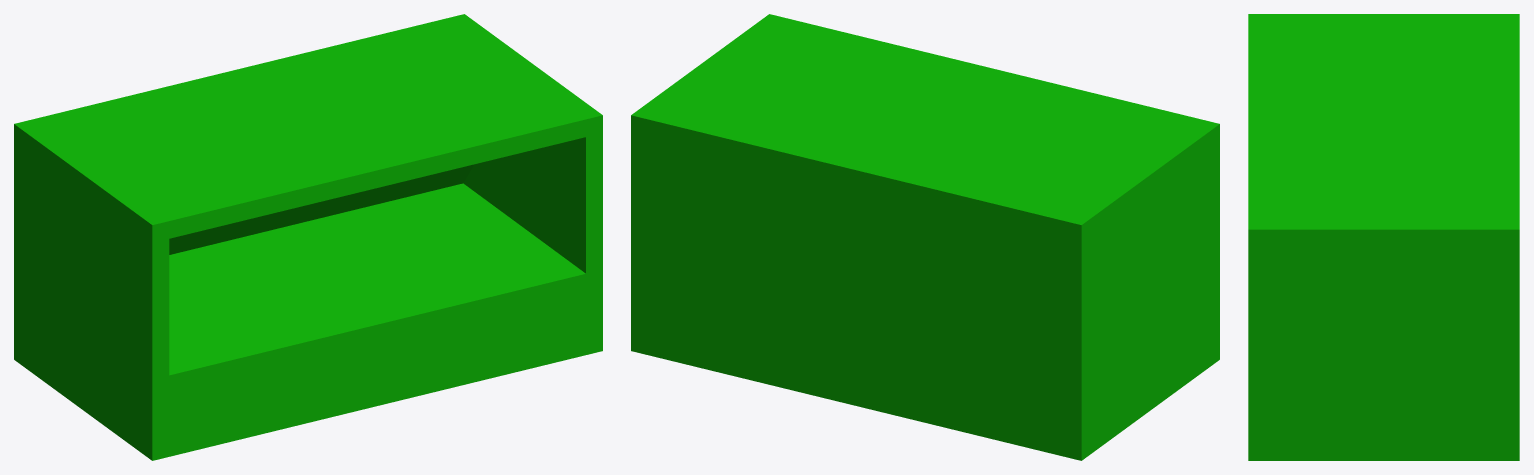
The model's file is DG_Wall_Alcove_2L_Collider.FBX.
3 views of the same model, side by side, from view 1: azimuth 30°, elevation 25°; view 2: azimuth 150°, elevation 25°; view 3: azimuth 270°, elevation 25° (orthographic).
Parts seen in each view (by area): view 1: DG_Wall_Alcove_2L_Collider; view 2: DG_Wall_Alcove_2L_Collider; view 3: DG_Wall_Alcove_2L_Collider.
Part boxes in pixels (left/top/right/bottom): DG_Wall_Alcove_2L_Collider: left=14, top=14, right=602, bottom=460; DG_Wall_Alcove_2L_Collider: left=631, top=14, right=1219, bottom=460; DG_Wall_Alcove_2L_Collider: left=1248, top=14, right=1519, bottom=460.
Size of the model in its own units: 600 by 300 by 319.
